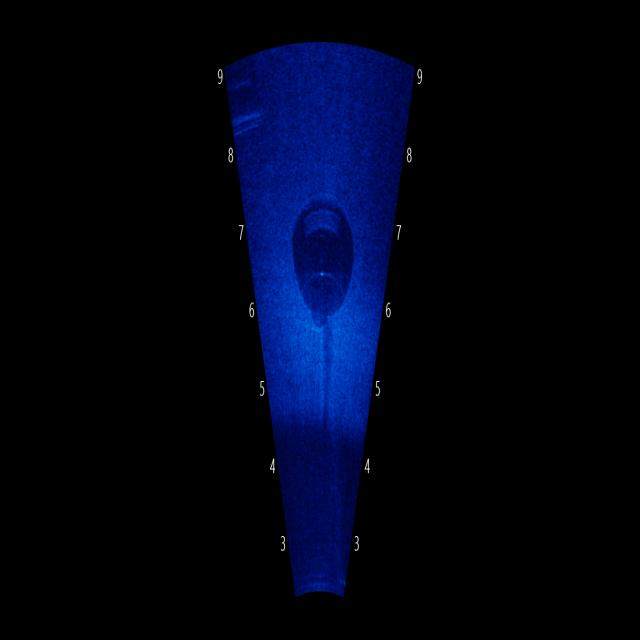circle: (291, 175, 363, 325)
